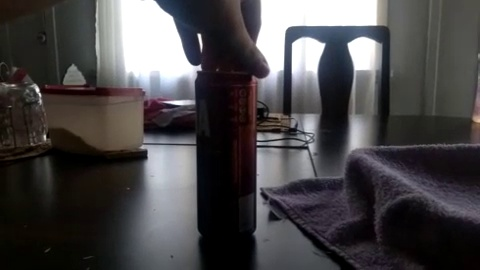duplo_malte: (181, 60, 272, 256)
